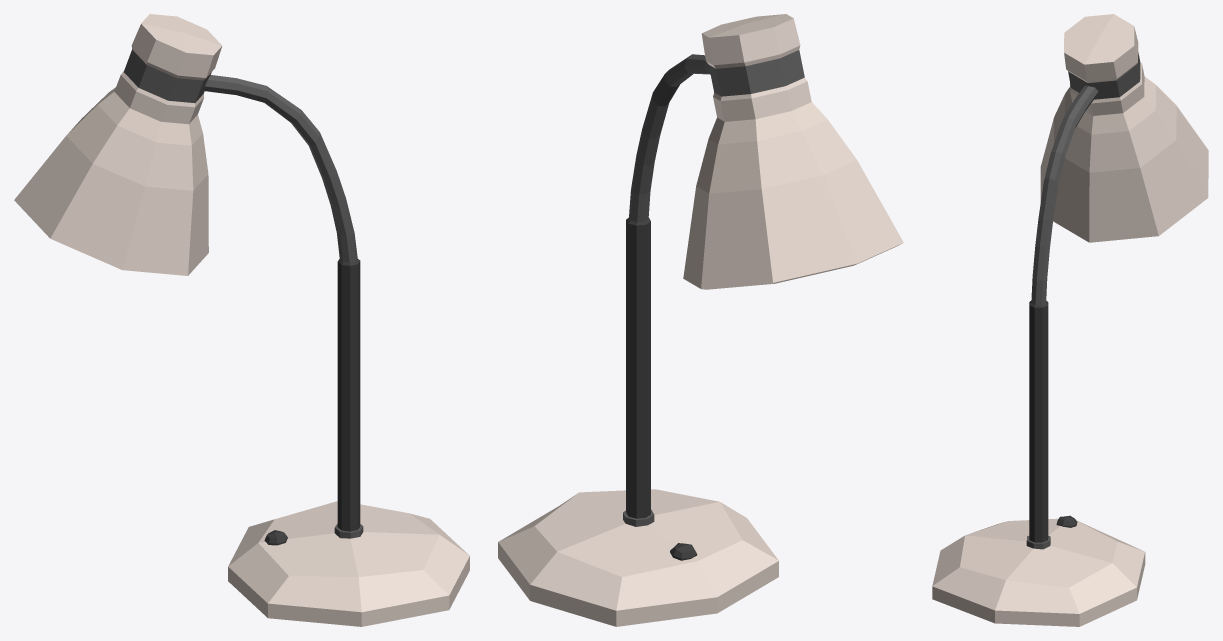
The model's file is Lamp_5.fbx.
3 views of the same model, side by side, from view 1: azimuth 30°, elevation 25°; view 2: azimuth 150°, elevation 25°; view 3: azimuth 270°, elevation 25° (orthographic). The views are drawn at different scales.
Parts seen in each view (by area): view 1: Lamp_5; view 2: Lamp_5; view 3: Lamp_5.
Part boxes in pixels (x1,y1,x2,y2): Lamp_5: [14, 14, 469, 626]; Lamp_5: [498, 14, 903, 626]; Lamp_5: [932, 14, 1208, 626].
Size of the model in its own units: 48.99 by 35.47 by 70.31.
